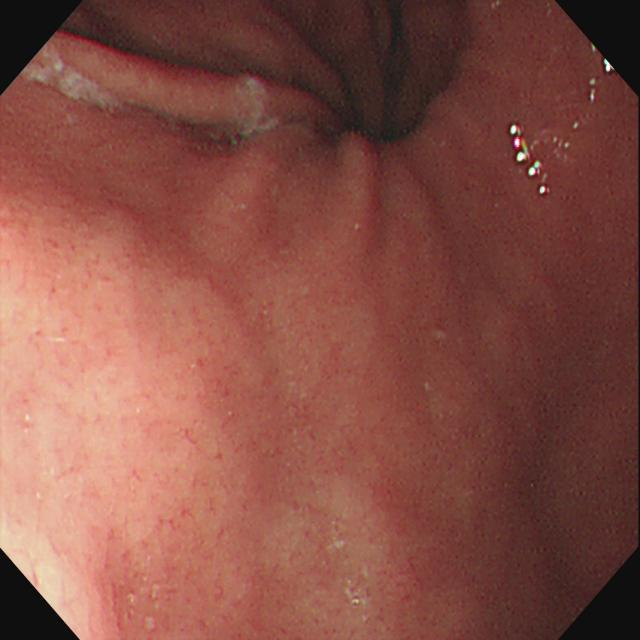J: (19, 46, 121, 114), (234, 74, 280, 144)
U: (510, 126, 543, 179)
